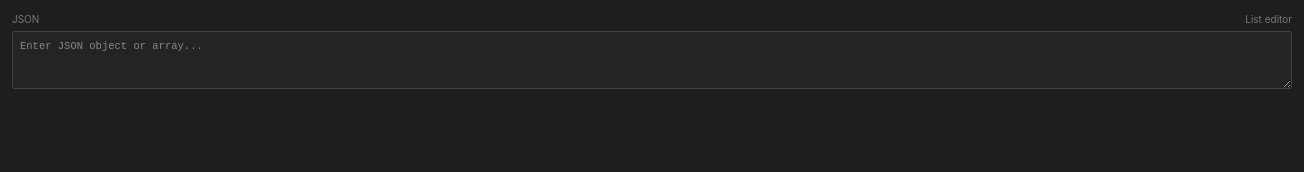
Scenario: LiteralWidget / PortInput component › allows switching from raw JSON to list editor mode
The width and height of the screenshot is (1304, 172).
Click the button with test id "inspector-input-config-json-mode-toggle" at (1269, 20), box [1245,12,1292,27]
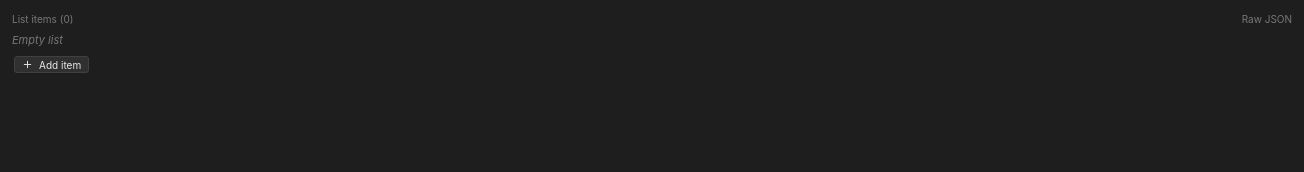
Expected: the element with test id "inspector-input-config-list-container" is shown, [12,12,1292,75]
